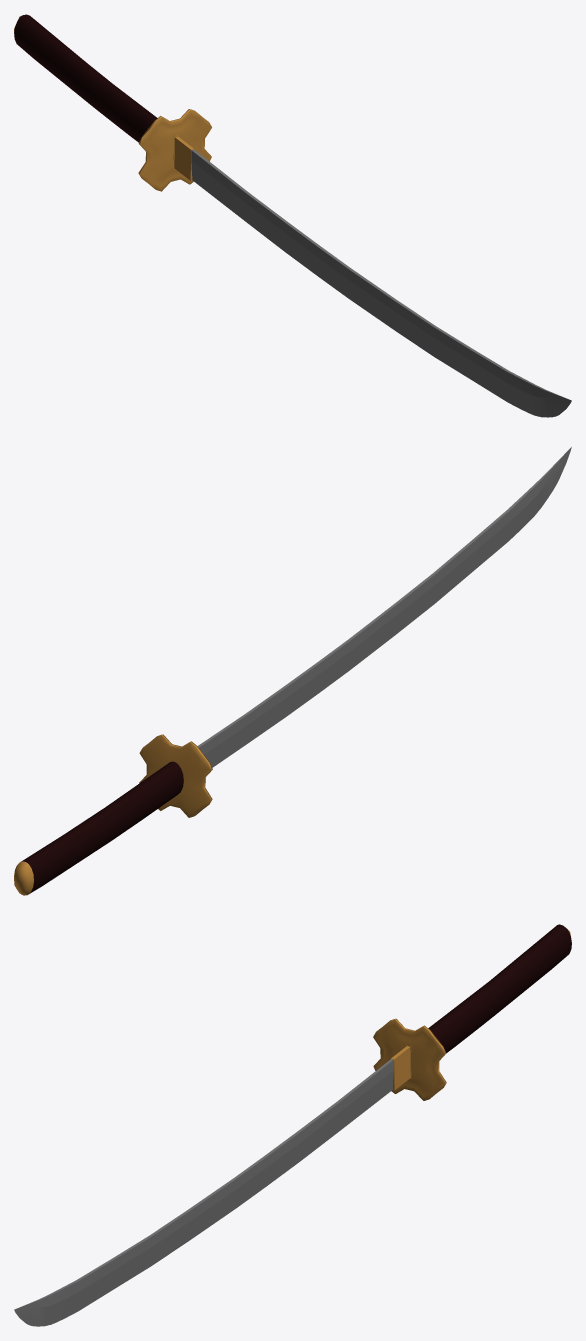
File: KatanaLP.fbx
3 views of the same model, one above another, from view 1: azimuth 30°, elevation 25°; view 2: azimuth 150°, elevation 25°; view 3: azimuth 330°, elevation 25° (orthographic).
Visible parts, largest first — view 1: Katana Blade, Katana Tsuka, Katana Tsuba; view 2: Katana Blade, Katana Tsuka, Katana Tsuba; view 3: Katana Blade, Katana Tsuka, Katana Tsuba.
Boxes of the visible parts, x1,y1,x2,y2 form: Katana Blade: (173,135,571,417); Katana Tsuka: (14,14,157,142); Katana Tsuba: (138,109,211,191); Katana Blade: (197,447,571,767); Katana Tsuka: (14,761,183,895); Katana Tsuba: (139,734,212,817); Katana Blade: (14,1044,411,1326); Katana Tsuka: (428,924,571,1053); Katana Tsuba: (373,1018,446,1100).
Bounding box in the file's own units: 93.9 × 96.88 × 1245.
